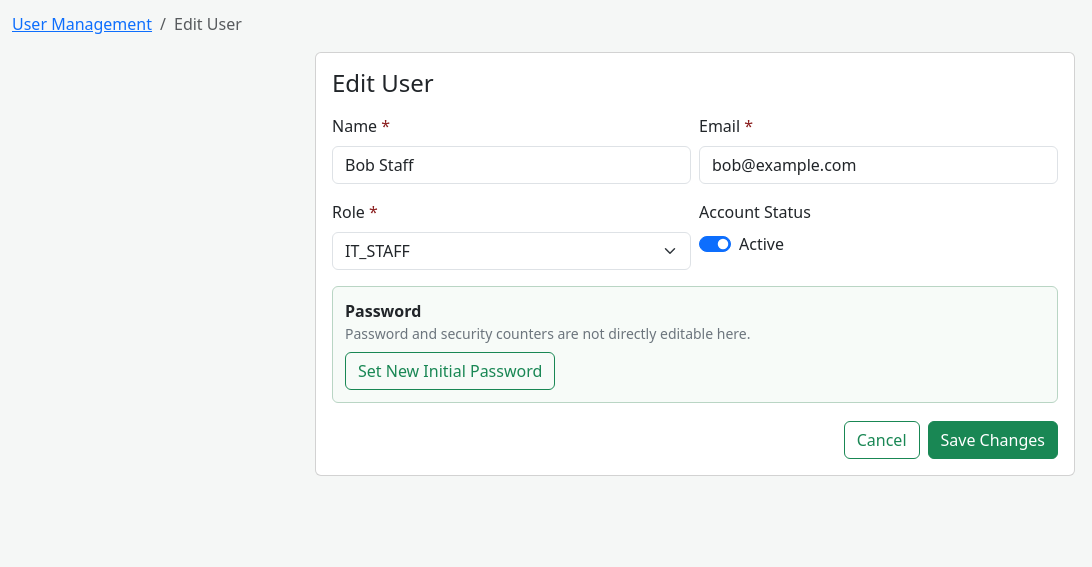
AdminUsers create/edit/reset (Lab 3 Issue #50, UI-10/11) › edit form saves changes and surfaces safety conflicts actionably
This screenshot has width=1092, height=567.
Replace the text in the field labelled "Name *" with "Bob Renamed" at (512, 165), box [332,146,691,184]
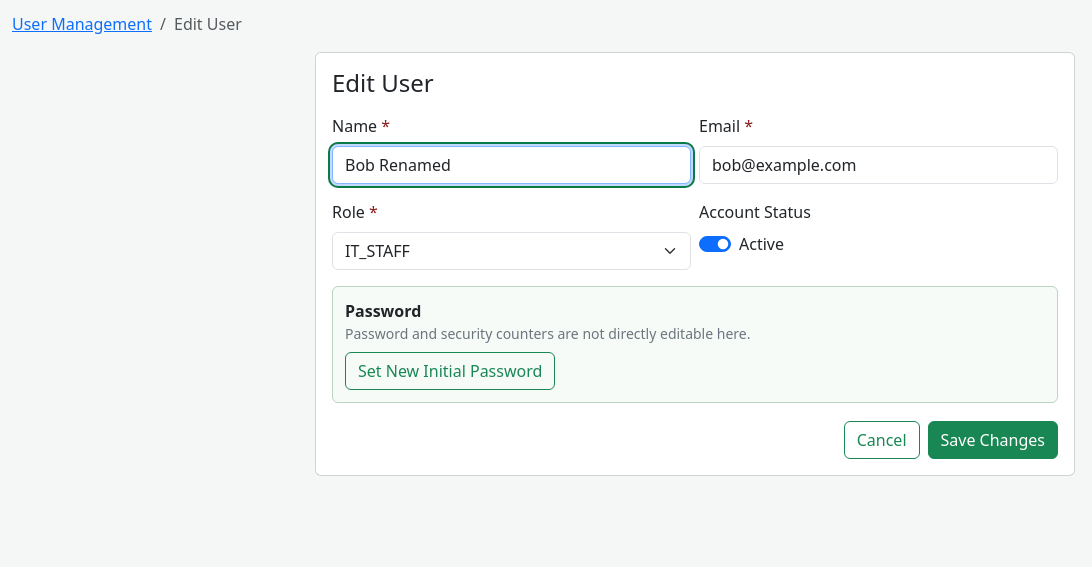
Click the button "Save Changes" at (993, 440), box [928,421,1058,459]
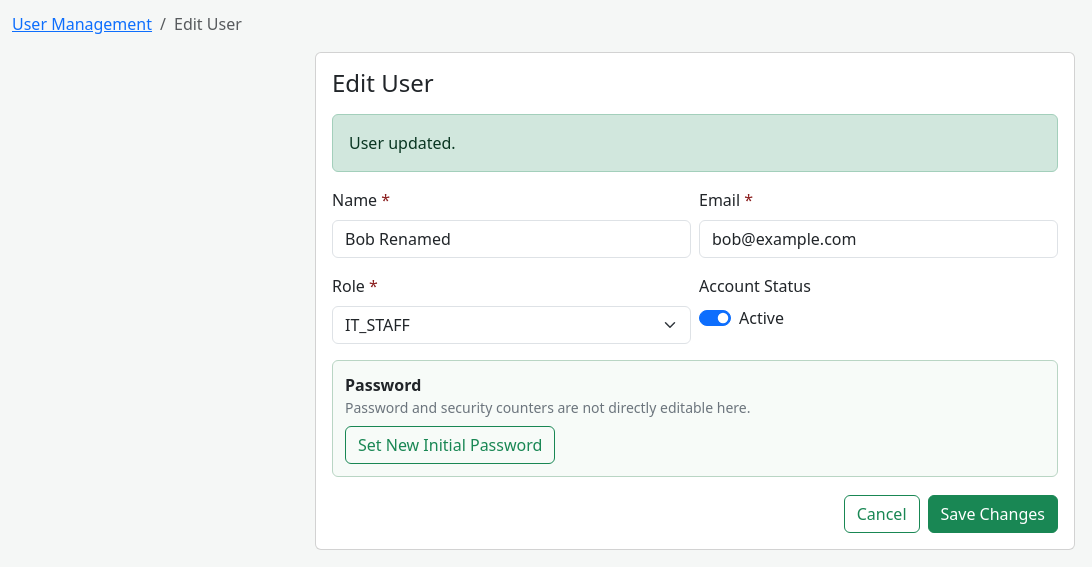
Click the switch named "Active" at (715, 318), box [699,310,731,326]
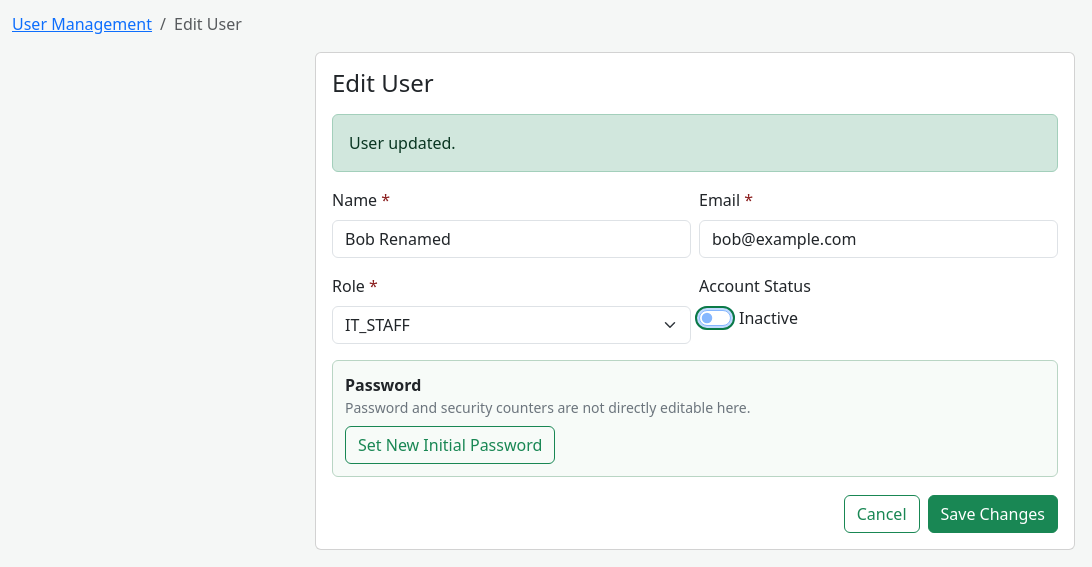
Click the button "Save Changes" at (993, 514), box [928,495,1058,533]
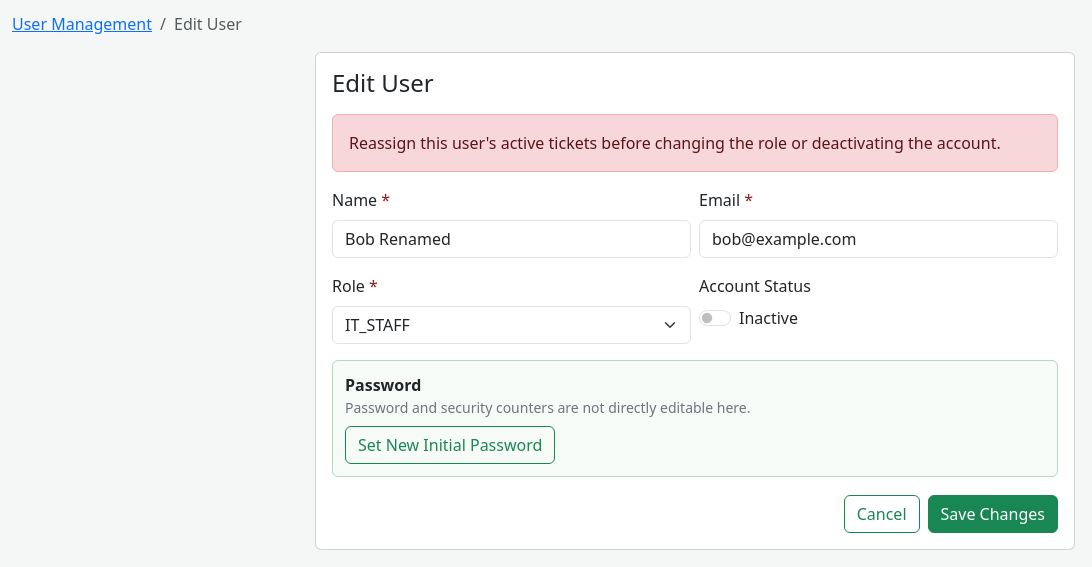
Now the text "Reassign this user's active tickets before changing the role or deactivating the account." is shown, box [349,132,1001,154]
